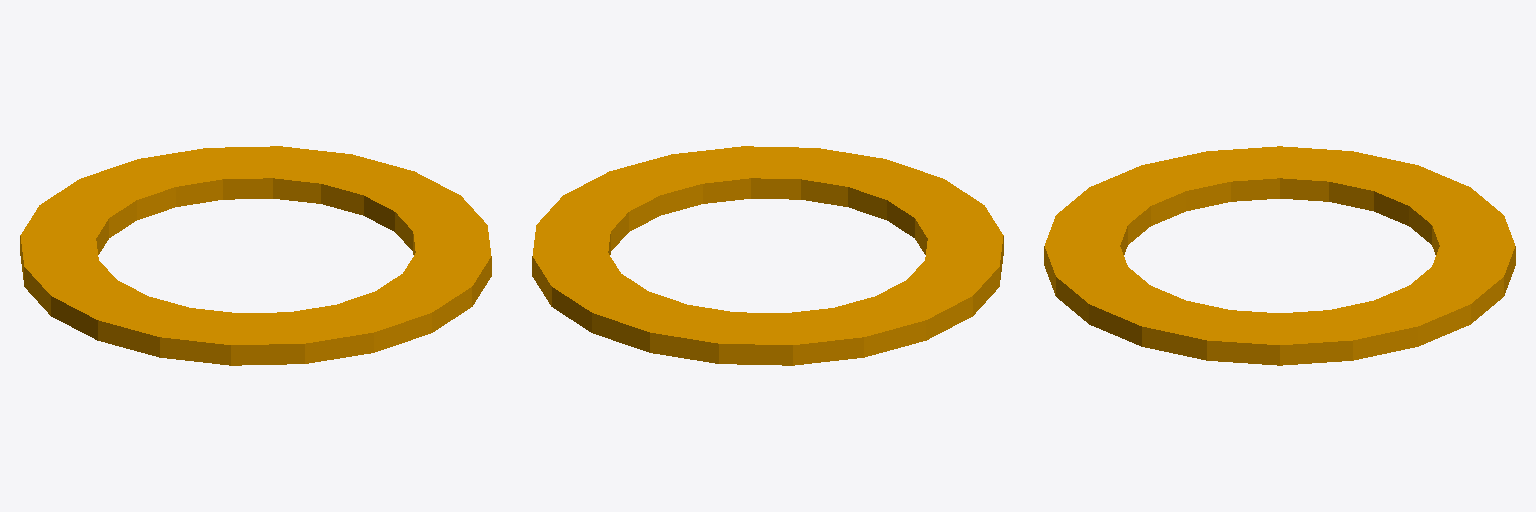
The robot description file, URDF, robot "O_model":
<robot name="O_model">
  <link name="O">
    <inertial>
      <mass value="0.3" />
      <!-- center of mass (com) is defined w.r.t. link local coordinate system -->
      <origin xyz="0 0 0" /> 
      <inertia  ixx="8.894304" ixy="0.0"  ixz="0.0"  iyy="17.751432"  iyz="0.0"  izz="8.894301" />
    </inertial>
      <max_vel>0.1</max_vel>
      <min_depth>0.001</min_depth>
      <mu1>1.0</mu1>
      <mu2>1.0</mu2>
    <visual>
      <!-- visual origin is defined w.r.t. link local coordinate system -->
      <origin xyz="0 0 0" rpy="0 0 0" />
      <geometry>
        <mesh filename="package://system_launch/models/mesh/O_model.dae" scale=".01 .01 .01" />
      </geometry>
    </visual>
    <collision>
      <!-- collision origin is defined w.r.t. link local coordinate system -->
      <origin xyz="0 0 0" rpy="0 0 0" />
      <geometry>
        <mesh filename="package://system_launch/models/mesh/O_model.dae" scale=".01 .01 .01" />
      </geometry>
    </collision>
  </link>
  <gazebo reference="O">
    <material>Gazebo/Black</material>
    <turnGravityOff>false</turnGravityOff>
    <kp>100000000.0</kp>
    <kd>1.0</kd>
  </gazebo>


</robot>

--- What the picture shows (computed from the rendered views, not written in the file) ---
The picture shows the robot from 3 angles, left to right: view 1: azimuth 30°, elevation 25°; view 2: azimuth 150°, elevation 25°; view 3: azimuth 270°, elevation 25°; orthographic projection.
Robot: O_model — 1 links, 0 joints (none); root link O; default pose: every joint at zero.
Visible links, largest first — view 1: O; view 2: O; view 3: O.
Link boxes in pixels (<box>): O: <box>20,146,491,365</box>; O: <box>532,146,1003,365</box>; O: <box>1044,146,1515,365</box>.
Bounding box of the posed robot: 0.0549 × 0.0549 × 0.0026 m (x, y, z).
Meshes: 1 distinct files referenced, 1 mesh visuals loaded (1 Collada DAE).